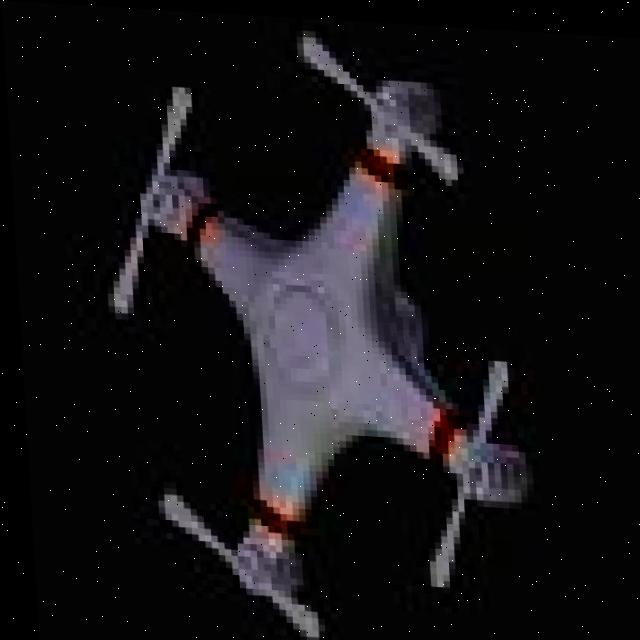drone: (86, 4, 565, 640)
